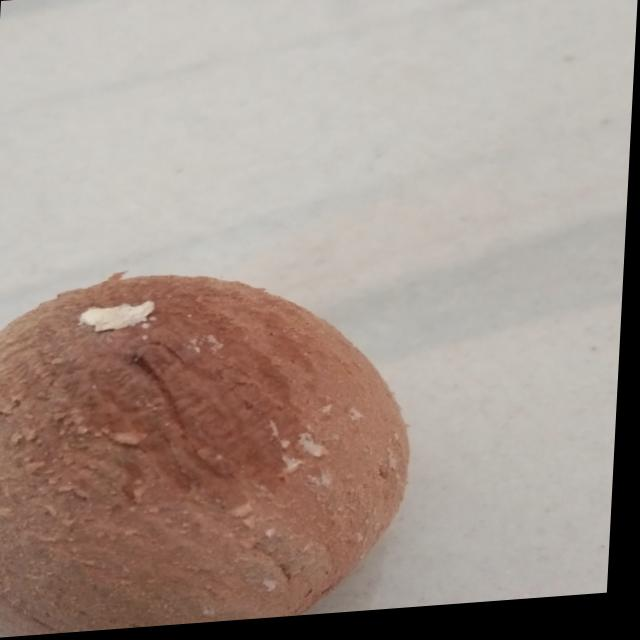good: (0, 231, 454, 640)
